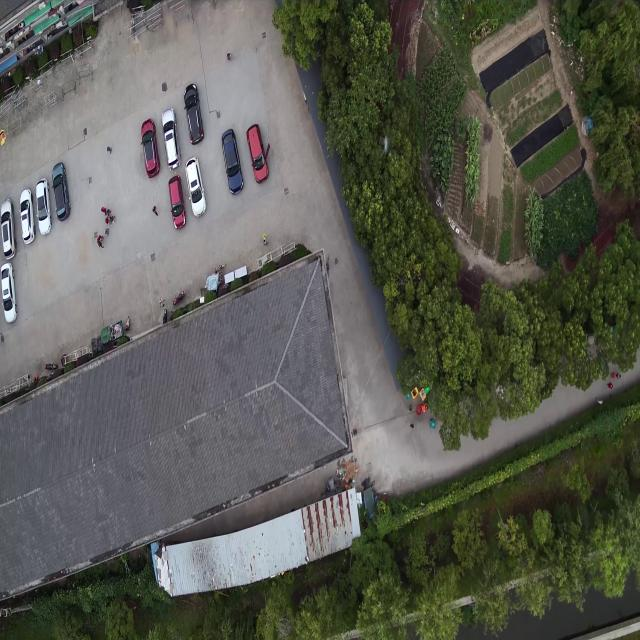UAV: (380, 134, 394, 158)
